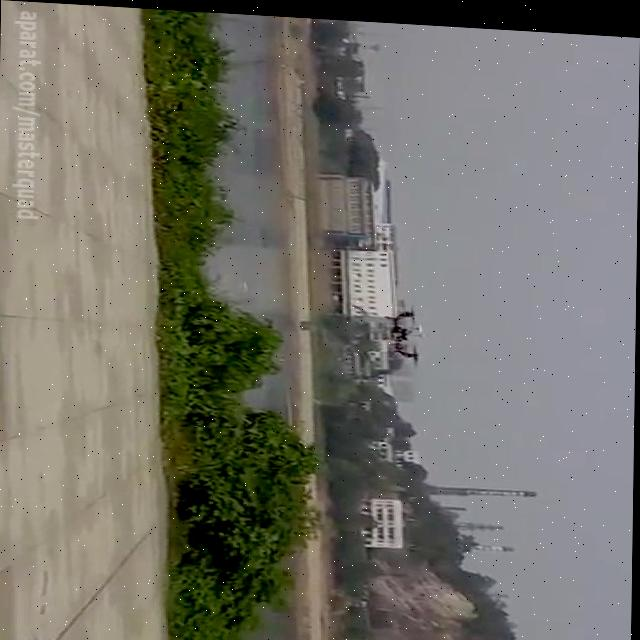drone: (379, 295, 437, 367)
